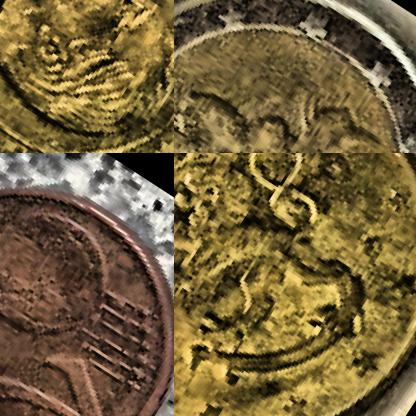coin: (174, 153, 415, 415), (0, 153, 173, 415), (174, 0, 415, 152), (0, 0, 173, 152)
